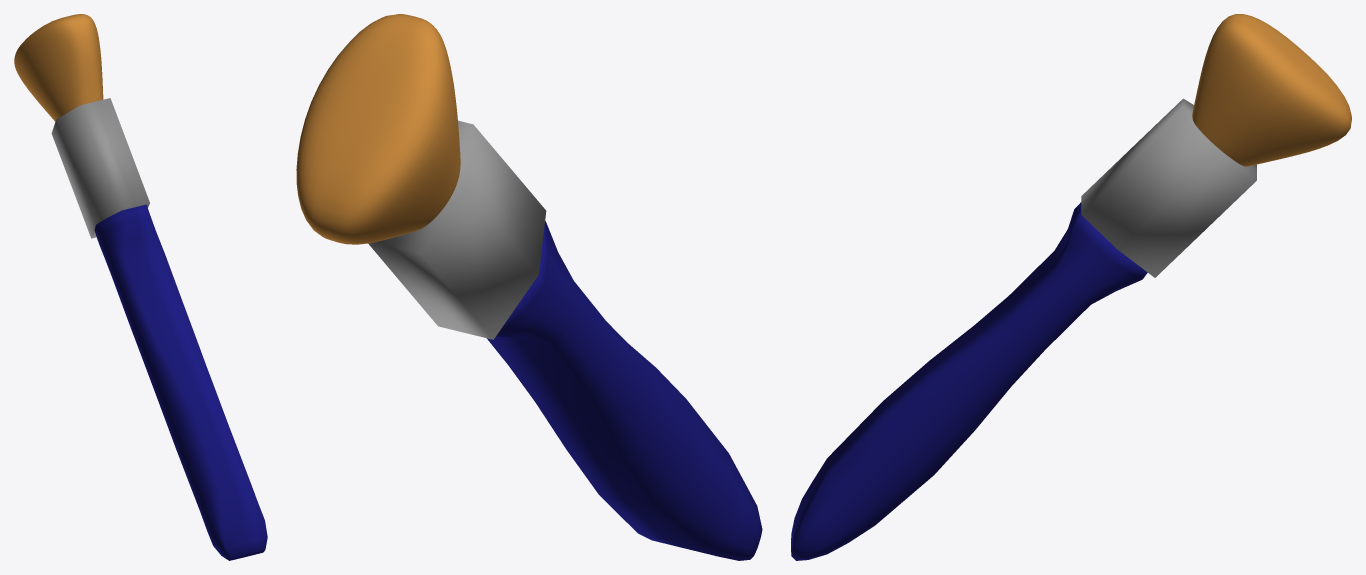
Rendered from firca.fbx.
3 views of the same model, side by side, from view 1: azimuth 30°, elevation 25°; view 2: azimuth 150°, elevation 25°; view 3: azimuth 270°, elevation 25° (orthographic). The views are drawn at different scales.
Visible parts, largest first — view 1: firca; view 2: firca; view 3: firca.
Part boxes in pixels (x1,y1,x2,y2): firca: (14,14,267,560); firca: (296,14,762,560); firca: (791,14,1351,560).
Size of the model in its own units: 75.25 by 448 by 428.
